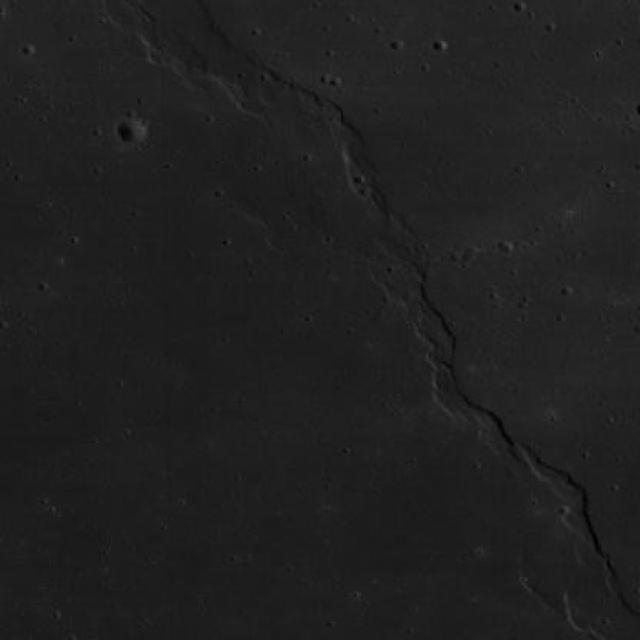crater: (118, 118, 148, 144)
